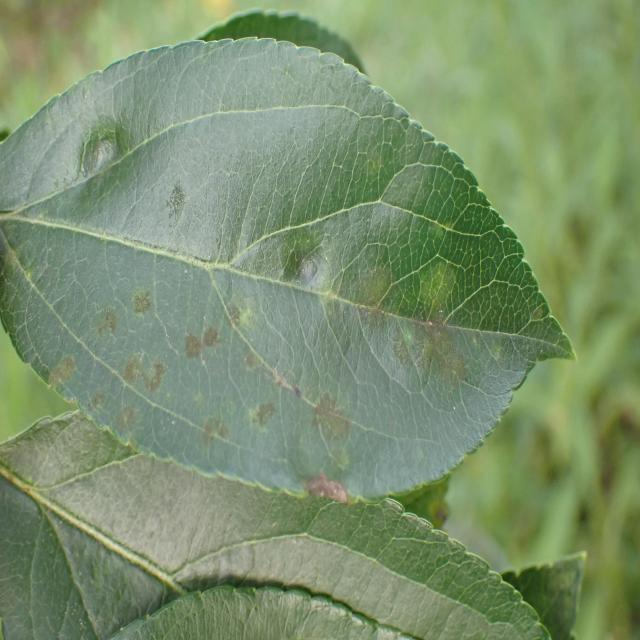scab: (19, 113, 570, 512)
